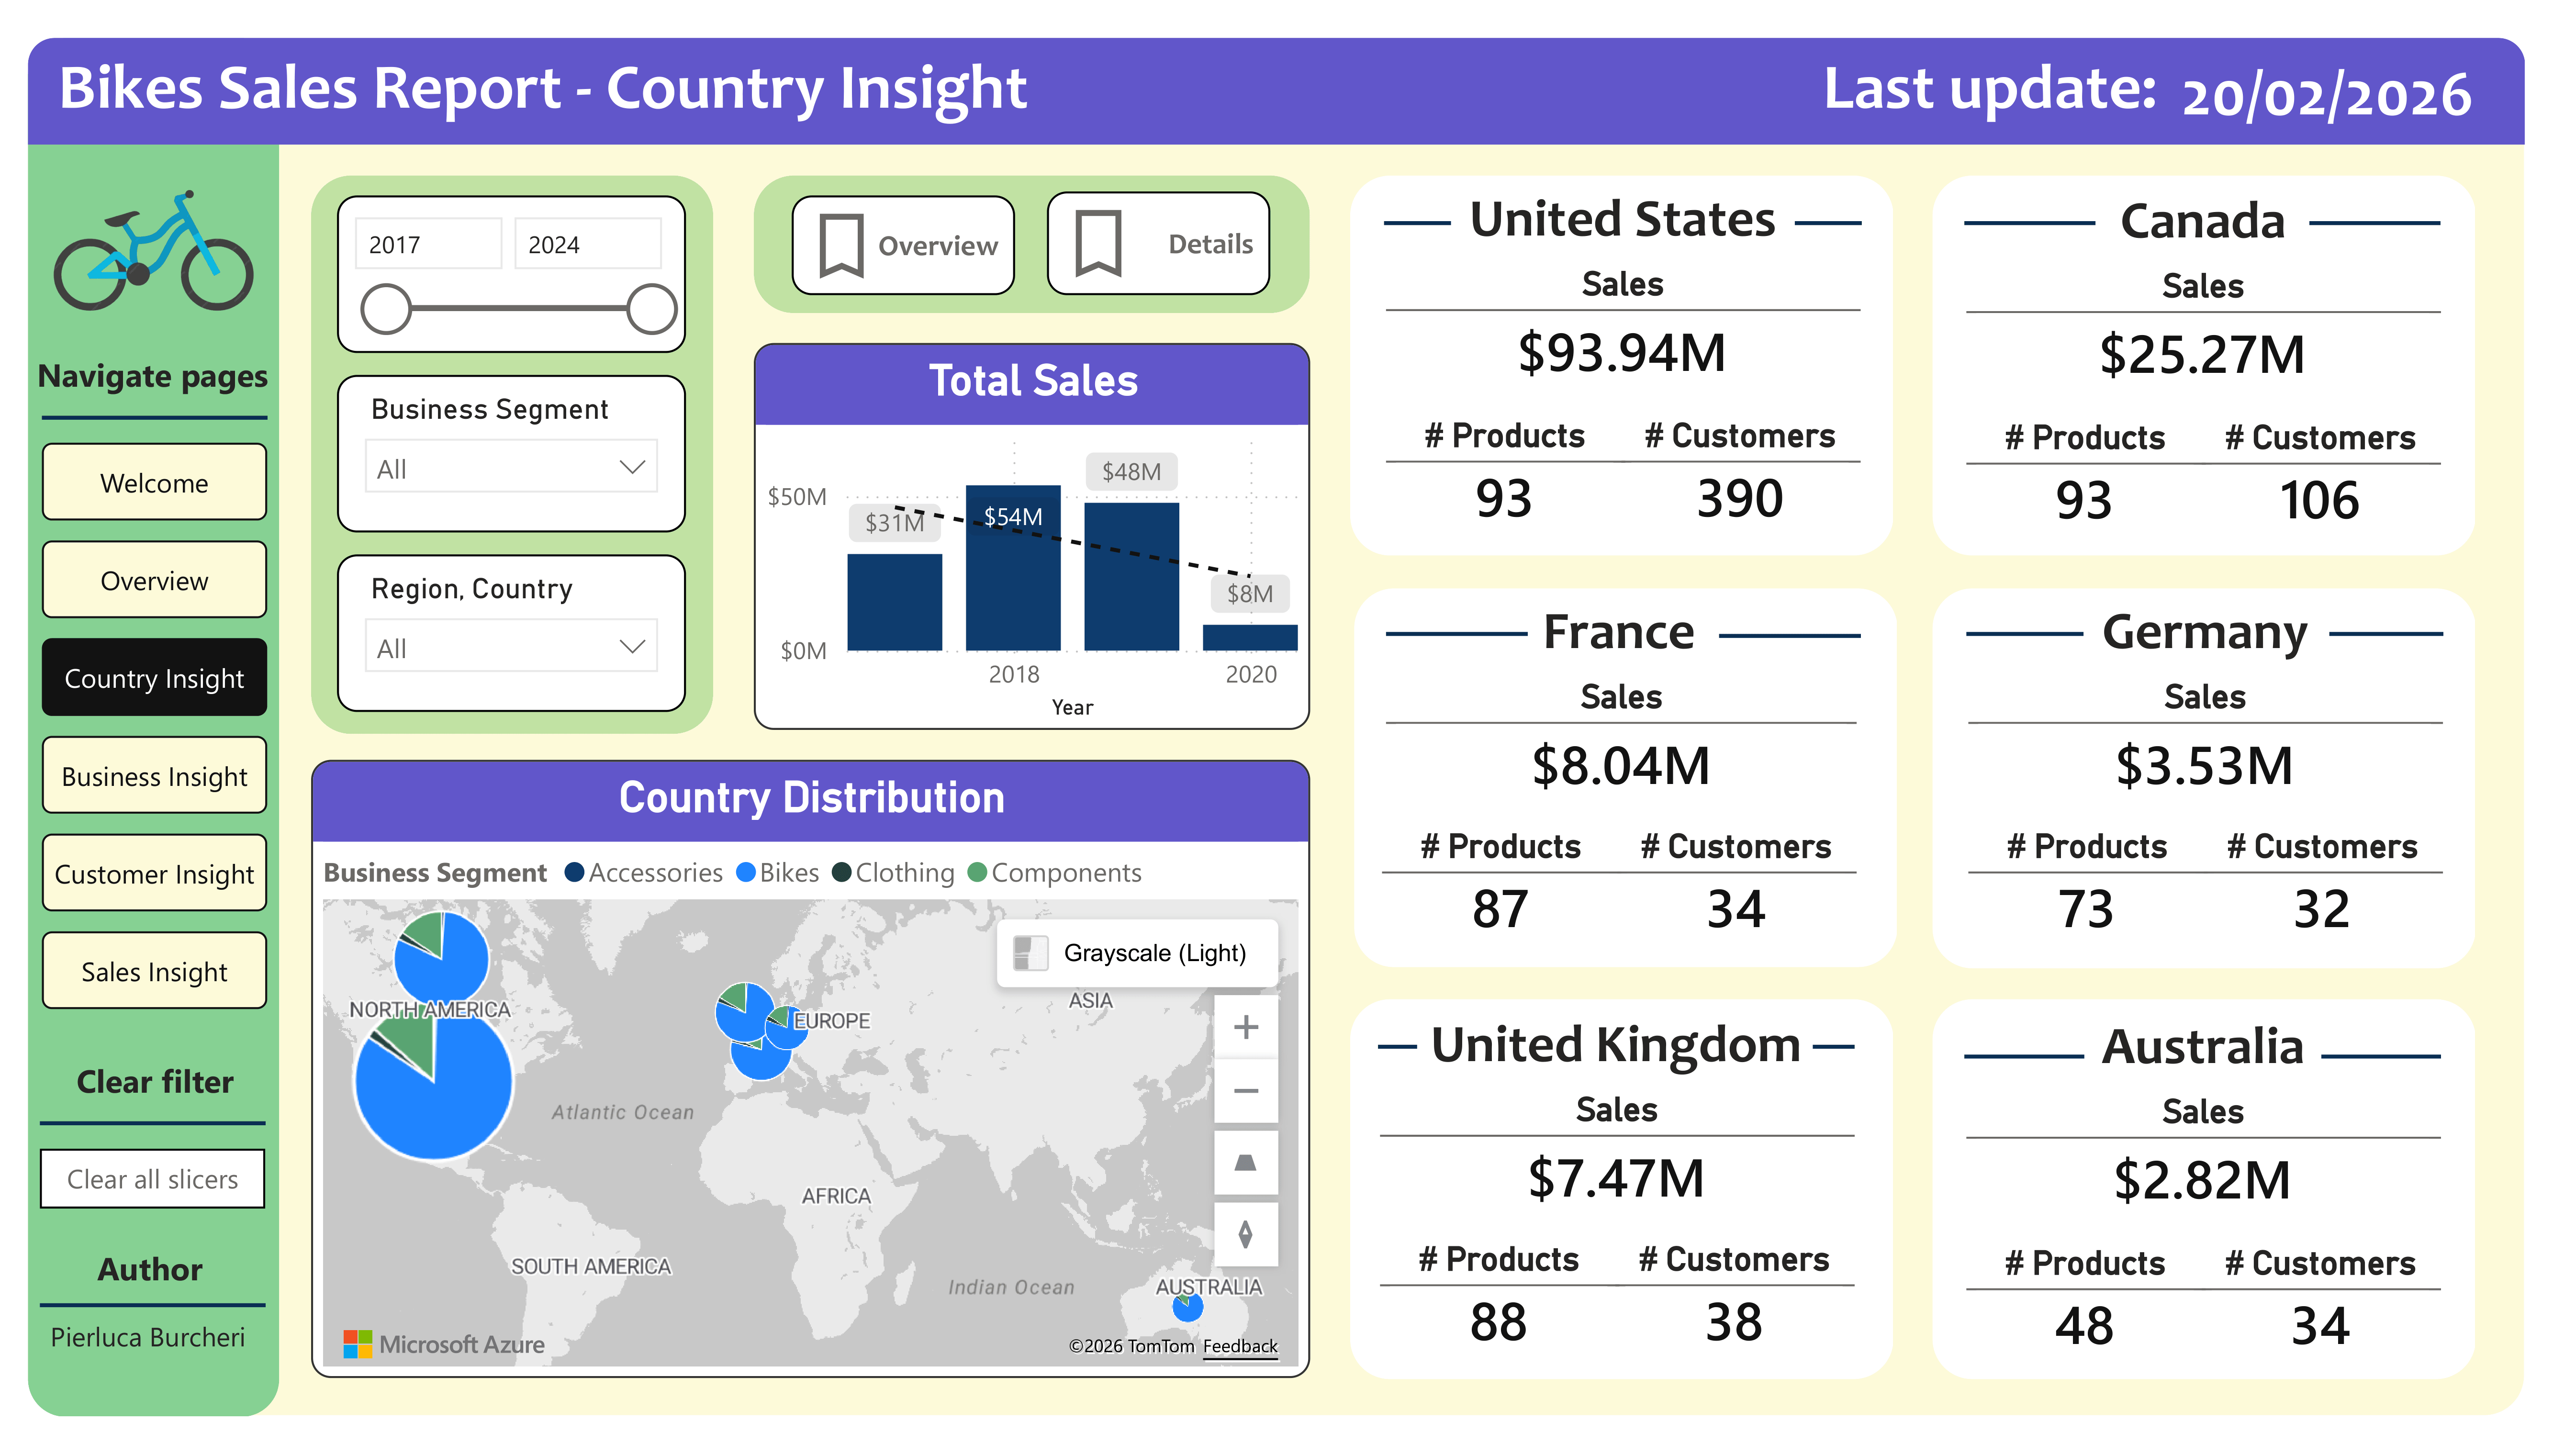

The dashboard page shown, as its layout file describes it:
{"tool":"powerbi","page":{"name":"Country Insight","canvas":[1280,720],"ordinal":2},"visuals":[{"type":"shape","box":[14.2,14.2,1251.6,690.6],"z":0},{"type":"slicer","fields":{"Values":["_Date Master.Year"]},"box":[168.5,92.9,174.8,78.8],"z":0,"group":"g4"},{"type":"shape","box":[14.2,14.2,126,691.5],"z":1000},{"type":"slicer","fields":{"Values":["Bikes Data.Region","Bikes Data.Country"]},"box":[168.5,272.5,174.8,78.8],"z":1000,"group":"g4"},{"type":"shape","box":[14.2,14.2,1252.2,53.6],"z":2000},{"type":"slicer","fields":{"Values":["Bikes Data.Business Segment"]},"box":[168.5,182.7,174.8,78.8],"z":2000,"group":"g4"},{"type":"textbox","box":[23.6,14.2,612.7,55.1],"z":3000},{"type":"textbox","box":[909.4,14.2,222.8,52.7],"z":4000},{"type":"card","fields":{"Values":["_Date Master.TODAY"]},"box":[1077.5,14.2,180.3,52.7],"z":5000},{"type":"azureMap","title":"Country Distribution","fields":{"Category":["Bikes Data.Region","Bikes Data.Country"],"Series":["Bikes Data.Business Segment"],"Size":["Sum(Bikes Data.Sales)"]},"box":[155.9,376.4,500.9,310.3],"z":6000},{"type":"clusteredColumnChart","title":"Total Sales","fields":{"Category":["_Date Master.Year","_Date Master.Month","_Date Master.MasterDate"],"Y":["Sum(Bikes Data.Sales)"]},"box":[378,167,278.8,193.7],"z":7000},{"type":"image","box":[23.6,66.2,105.5,108.7],"z":8000},{"type":"shape","box":[677.3,83.5,272.5,190.6],"z":9000},{"type":"shape","box":[155.9,83.5,201.6,280],"z":10000},{"type":"cardVisual","title":"Sales","fields":{"Data":["Sum(Bikes Data.Sales)"]},"box":[694.6,127.6,237.8,64.6],"z":10000,"group":"g3"},{"type":"shape","box":[968.7,83.5,272.5,190.6],"z":11000},{"type":"textbox","box":[7.9,167.4,137,31.5],"z":11000,"group":"g2"},{"type":"cardVisual","title":"Sales","fields":{"Data":["Sum(Bikes Data.Sales)"]},"box":[985.6,128,237.8,64.6],"z":12000},{"type":"shape","box":[20.5,184.7,113.4,41],"z":12000,"group":"g2"},{"type":"actionButton","box":[20.5,570.6,113.4,29.9],"z":13000},{"type":"cardVisual","title":"# Products","fields":{"Data":["Count(Bikes Data.Model)"]},"box":[694.6,203.2,119.7,58.3],"z":14000,"group":"g3"},{"type":"shape","box":[968.7,289.8,272.5,190.6],"z":14000},{"type":"pageNavigator","box":[20.5,217.4,113.4,289.8],"z":15000,"group":"g2"},{"type":"cardVisual","title":"Sales","fields":{"Data":["Sum(Bikes Data.Sales)"]},"box":[987,333.7,237.8,64.6],"z":15000},{"type":"shape","box":[678.9,290.1,272.5,190],"z":16000},{"type":"shape","box":[20,537.6,113.4,40.5],"z":17000},{"type":"cardVisual","title":"Sales","fields":{"Data":["Sum(Bikes Data.Sales)"]},"box":[695.3,334.4,236.4,64.4],"z":18000},{"type":"shape","box":[968.7,496.2,272.5,190.6],"z":19000},{"type":"cardVisual","title":"Sales","fields":{"Data":["Sum(Bikes Data.Sales)"]},"box":[985.6,542.1,237.8,64.6],"z":20000},{"type":"textbox","box":[7.9,521.4,139.7,38.5],"z":21000},{"type":"shape","box":[677.3,496.2,272.5,190.6],"z":22000},{"type":"cardVisual","title":"# Products","fields":{"Data":["Count(Bikes Data.Model)"]},"box":[985.6,203.6,119.7,58.3],"z":23000},{"type":"cardVisual","title":"# Products","fields":{"Data":["Count(Bikes Data.Model)"]},"box":[987,409.3,119.7,58.3],"z":24000},{"type":"shape","box":[693.9,88.2,33.6,37.8],"z":25000,"group":"g3"},{"type":"cardVisual","title":"Sales","fields":{"Data":["Sum(Bikes Data.Sales)"]},"box":[691.8,540.7,237.8,64.6],"z":25000},{"type":"shape","box":[20.5,629,113.4,41],"z":25000,"group":"g1"},{"type":"shape","box":[899.6,88.2,33.6,37.8],"z":26000,"group":"g3"},{"type":"cardVisual","title":"# Products","fields":{"Data":["Count(Bikes Data.Model)"]},"box":[693.2,409.3,119.7,58.3],"z":26000},{"type":"textbox","box":[31.5,614.8,88.2,37.8],"z":26000,"group":"g1"},{"type":"cardVisual","title":"# Customers","fields":{"Data":["Count(Bikes Data.Customer)"]},"box":[812.7,203.2,119.7,58.3],"z":27000,"group":"g3"},{"type":"cardVisual","title":"# Products","fields":{"Data":["Count(Bikes Data.Model)"]},"box":[985.6,617.7,119.7,58.3],"z":27000},{"type":"textbox","box":[20.5,650.5,108.7,36.2],"z":27000,"group":"g1"},{"type":"group","id":"g1","title":"Group 1","box":[20.5,614.8,113.4,71.9],"z":28000},{"type":"cardVisual","title":"# Products","fields":{"Data":["Count(Bikes Data.Model)"]},"box":[691.8,616.3,119.7,58.3],"z":29000},{"type":"group","id":"g2","title":"Group 3","box":[7.9,167.4,137,339.8],"z":30000},{"type":"shape","box":[984.9,88.1,65.8,37.8],"z":31000},{"type":"shape","box":[986.3,293.8,58.8,37.8],"z":32000},{"type":"shape","box":[1168.2,293.8,57.4,37.8],"z":33000},{"type":"cardVisual","title":"# Customers","fields":{"Data":["Count(Bikes Data.Customer)"]},"box":[1103.7,203.6,119.7,58.3],"z":34000},{"type":"cardVisual","title":"# Customers","fields":{"Data":["Count(Bikes Data.Customer)"]},"box":[1105.1,409.3,119.7,58.3],"z":35000},{"type":"shape","box":[695.3,293.8,71.3,37.8],"z":36000},{"type":"group","id":"g3","title":"Group 4","box":[693.9,83.5,239.2,178],"z":37000},{"type":"cardVisual","title":"# Customers","fields":{"Data":["Count(Bikes Data.Customer)"]},"box":[811.3,409.3,119.7,58.3],"z":38000},{"type":"shape","box":[984.9,507.8,60.2,33.6],"z":39000},{"type":"textbox","box":[727.7,83.5,171.7,45.7],"z":40000,"group":"g3"},{"type":"cardVisual","title":"# Customers","fields":{"Data":["Count(Bikes Data.Customer)"]},"box":[1103.7,617.7,119.7,58.3],"z":40000},{"type":"shape","box":[691.1,500.8,19.6,37.8],"z":41000},{"type":"shape","box":[909.3,500.8,21,37.8],"z":42000},{"type":"cardVisual","title":"# Customers","fields":{"Data":["Count(Bikes Data.Customer)"]},"box":[809.9,616.3,119.7,58.3],"z":43000},{"type":"textbox","box":[709.3,496.6,202.9,54.6],"z":44000},{"type":"textbox","box":[1018.7,83.9,171.7,45.7],"z":45000},{"type":"textbox","box":[1020.1,289.6,171.7,45.7],"z":46000},{"type":"textbox","box":[1018.7,498,171.7,45.7],"z":47000},{"type":"textbox","box":[726.3,289.6,171.7,45.7],"z":48000},{"type":"shape","box":[1158.4,88.1,65.8,37.8],"z":49000},{"type":"shape","box":[1164,507.8,60.2,33.6],"z":50000},{"type":"shape","box":[861.8,295.2,71.3,37.8],"z":51000},{"type":"shape","box":[378,83.5,278.8,69],"z":54000},{"type":"actionButton","box":[396.9,92.9,111.8,50.4],"z":55000},{"type":"actionButton","box":[524.5,91.4,111.8,52],"z":56000},{"type":"group","id":"g4","title":"Group 1","box":[168.5,92.9,174.8,258.3],"z":57000}]}

Visuals, with their boxes in screenshot pixels (x1, y1, x2, y2), scaled from the page's 1280x720 canvas onto the 2553x1456 screenshot:
shape: x1=28 y1=29 x2=2525 y2=1425
slicer - _Date Master.Year: x1=336 y1=188 x2=685 y2=347
shape: x1=28 y1=29 x2=280 y2=1427
slicer - Bikes Data.Region x Bikes Data.Country: x1=336 y1=551 x2=685 y2=710
shape: x1=28 y1=29 x2=2526 y2=137
slicer - Bikes Data.Business Segment: x1=336 y1=370 x2=685 y2=529
textbox: x1=47 y1=29 x2=1269 y2=140
textbox: x1=1814 y1=29 x2=2258 y2=135
card - _Date Master.TODAY: x1=2149 y1=29 x2=2508 y2=135
"Country Distribution" azureMap: x1=311 y1=761 x2=1310 y2=1389
"Total Sales" clusteredColumnChart: x1=754 y1=338 x2=1310 y2=729
image: x1=47 y1=134 x2=258 y2=354
shape: x1=1351 y1=169 x2=1894 y2=554
shape: x1=311 y1=169 x2=713 y2=735
"Sales" cardVisual: x1=1386 y1=258 x2=1859 y2=389
shape: x1=1932 y1=169 x2=2475 y2=554
textbox: x1=16 y1=338 x2=289 y2=402
"Sales" cardVisual: x1=1966 y1=259 x2=2440 y2=390
shape: x1=41 y1=373 x2=267 y2=457
actionButton: x1=41 y1=1154 x2=267 y2=1214
"# Products" cardVisual: x1=1386 y1=411 x2=1624 y2=529
shape: x1=1932 y1=586 x2=2475 y2=972
pageNavigator: x1=41 y1=440 x2=267 y2=1026
"Sales" cardVisual: x1=1969 y1=675 x2=2443 y2=806
shape: x1=1354 y1=587 x2=1898 y2=971
shape: x1=40 y1=1087 x2=266 y2=1169
"Sales" cardVisual: x1=1387 y1=676 x2=1859 y2=806
shape: x1=1932 y1=1003 x2=2475 y2=1389
"Sales" cardVisual: x1=1966 y1=1096 x2=2440 y2=1227
textbox: x1=16 y1=1054 x2=294 y2=1132
shape: x1=1351 y1=1003 x2=1894 y2=1389
"# Products" cardVisual: x1=1966 y1=412 x2=2205 y2=530
"# Products" cardVisual: x1=1969 y1=828 x2=2207 y2=946
shape: x1=1384 y1=179 x2=1451 y2=255
"Sales" cardVisual: x1=1380 y1=1093 x2=1854 y2=1224
shape: x1=41 y1=1272 x2=267 y2=1355
shape: x1=1794 y1=179 x2=1861 y2=255
"# Products" cardVisual: x1=1383 y1=828 x2=1622 y2=946
textbox: x1=63 y1=1243 x2=239 y2=1320
"# Customers" cardVisual: x1=1621 y1=411 x2=1859 y2=529
"# Products" cardVisual: x1=1966 y1=1249 x2=2205 y2=1367
textbox: x1=41 y1=1315 x2=258 y2=1389
"Group 1" group: x1=41 y1=1243 x2=267 y2=1389
"# Products" cardVisual: x1=1380 y1=1246 x2=1619 y2=1364
"Group 3" group: x1=16 y1=338 x2=289 y2=1026
shape: x1=1964 y1=178 x2=2095 y2=255
shape: x1=1967 y1=594 x2=2084 y2=671
shape: x1=2330 y1=594 x2=2444 y2=671
"# Customers" cardVisual: x1=2201 y1=412 x2=2440 y2=530
"# Customers" cardVisual: x1=2204 y1=828 x2=2443 y2=946
shape: x1=1387 y1=594 x2=1529 y2=671
"Group 4" group: x1=1384 y1=169 x2=1861 y2=529
"# Customers" cardVisual: x1=1618 y1=828 x2=1857 y2=946
shape: x1=1964 y1=1027 x2=2084 y2=1095
textbox: x1=1451 y1=169 x2=1794 y2=261
"# Customers" cardVisual: x1=2201 y1=1249 x2=2440 y2=1367
shape: x1=1378 y1=1013 x2=1418 y2=1089
shape: x1=1814 y1=1013 x2=1856 y2=1089
"# Customers" cardVisual: x1=1615 y1=1246 x2=1854 y2=1364
textbox: x1=1415 y1=1004 x2=1819 y2=1115
textbox: x1=2032 y1=169 x2=2374 y2=262
textbox: x1=2035 y1=586 x2=2377 y2=678
textbox: x1=2032 y1=1007 x2=2374 y2=1099
textbox: x1=1449 y1=586 x2=1791 y2=678
shape: x1=2310 y1=178 x2=2441 y2=255
shape: x1=2322 y1=1027 x2=2441 y2=1095
shape: x1=1719 y1=597 x2=1861 y2=673
shape: x1=754 y1=169 x2=1310 y2=308
actionButton: x1=792 y1=188 x2=1015 y2=290
actionButton: x1=1046 y1=185 x2=1269 y2=290
"Group 1" group: x1=336 y1=188 x2=685 y2=710
